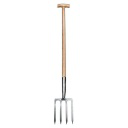Fork: (46, 3, 84, 128)
